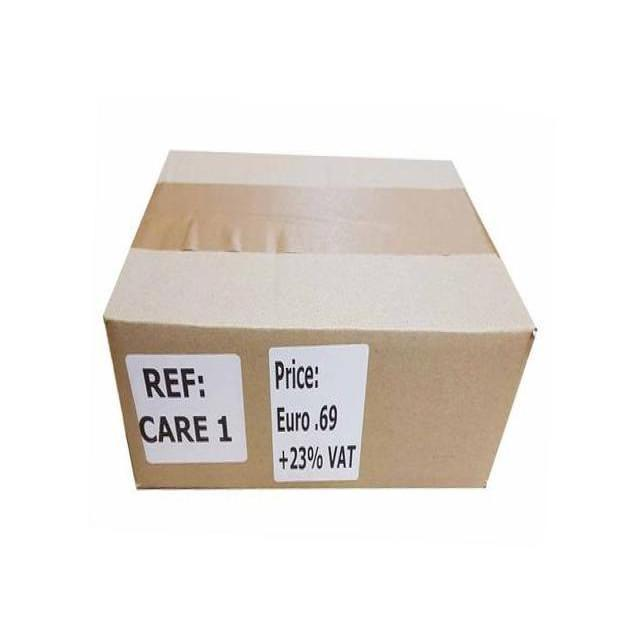Cardboard: (102, 152, 537, 490)
